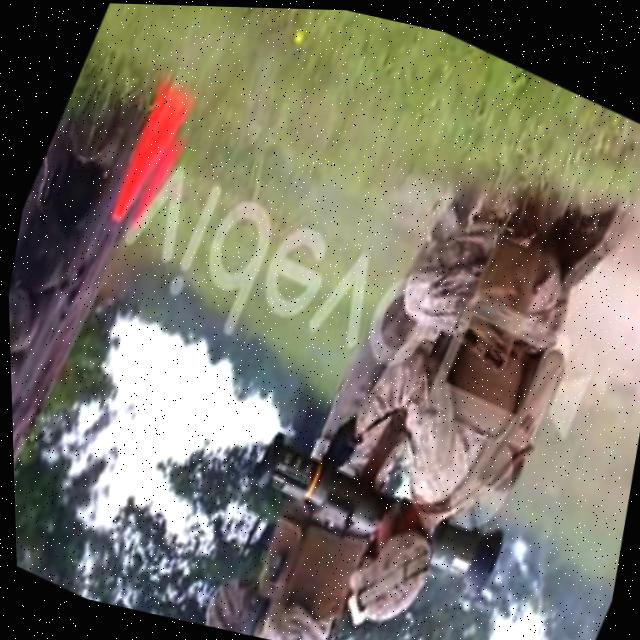rocket: (234, 425, 517, 601)
